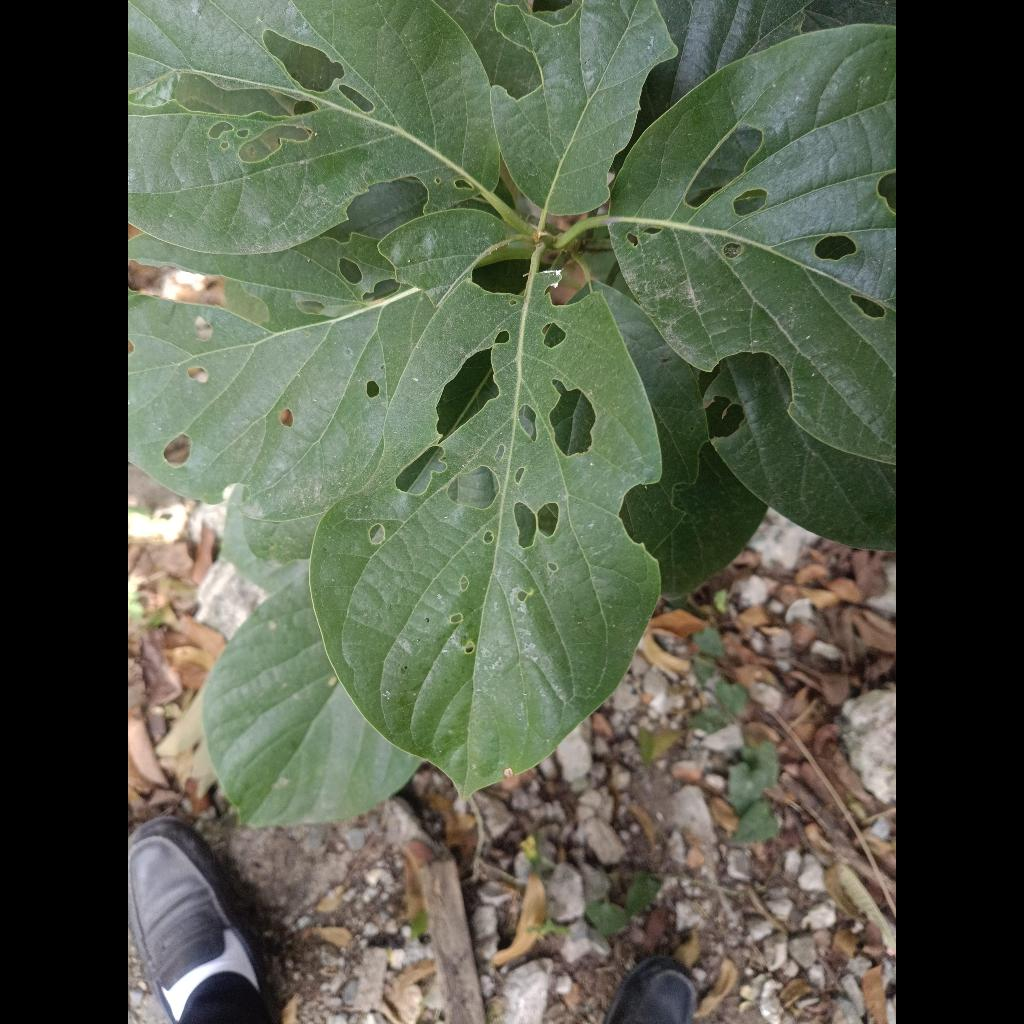Pest Infested: (310, 241, 660, 794), (610, 25, 896, 468), (128, 0, 498, 254)
